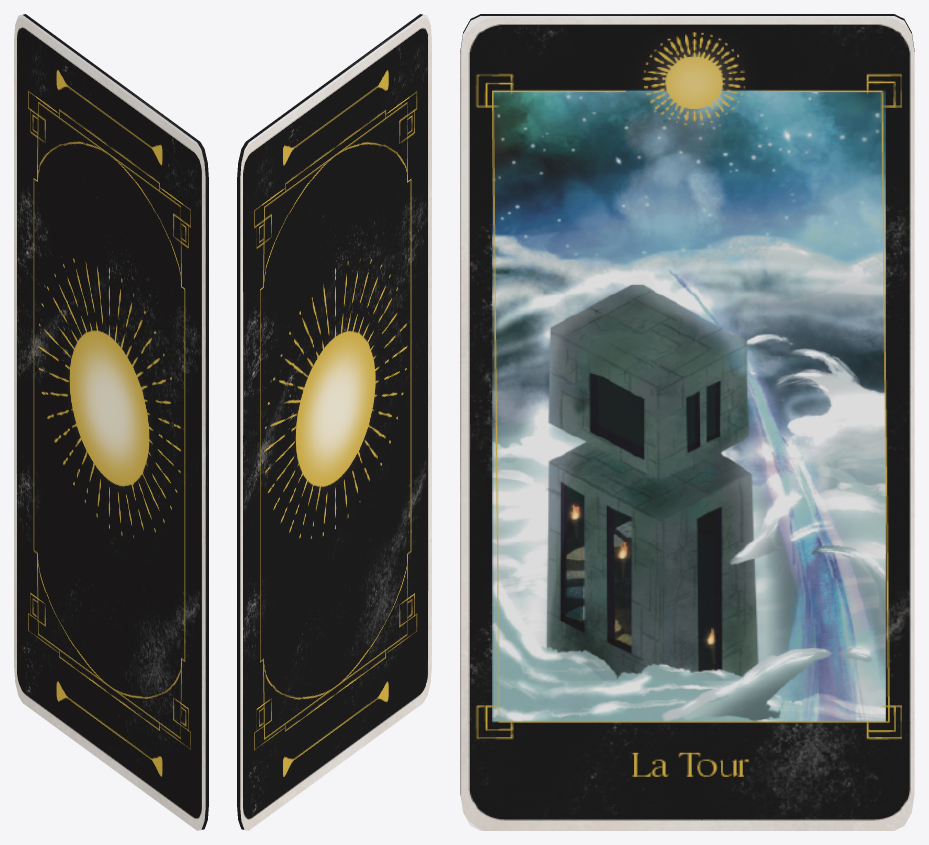
The model's file is la_tour.gltf.
3 views of the same model, side by side, from view 1: azimuth 30°, elevation 25°; view 2: azimuth 150°, elevation 25°; view 3: azimuth 270°, elevation 25° (orthographic). The views are drawn at different scales.
Visible parts, largest first — view 1: 2 Batons; view 2: 2 Batons; view 3: 2 Batons.
Boxes of the visible parts, left/top/right/bottom form: 2 Batons: left=14, top=14, right=208, bottom=830; 2 Batons: left=237, top=14, right=431, bottom=830; 2 Batons: left=460, top=14, right=914, bottom=830.
Bounding box in the file's own units: 0.0191 × 3.96 × 2.
Materials: 1 (1 with a texture image).
